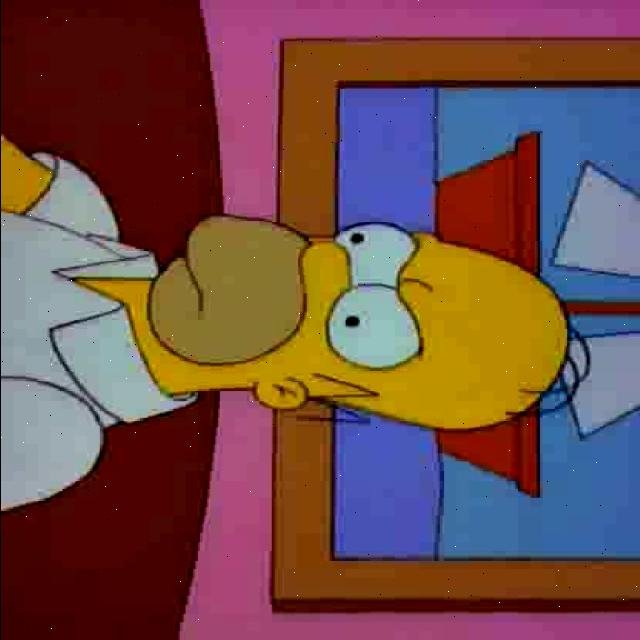Homer Simpson: (132, 212, 590, 430)
